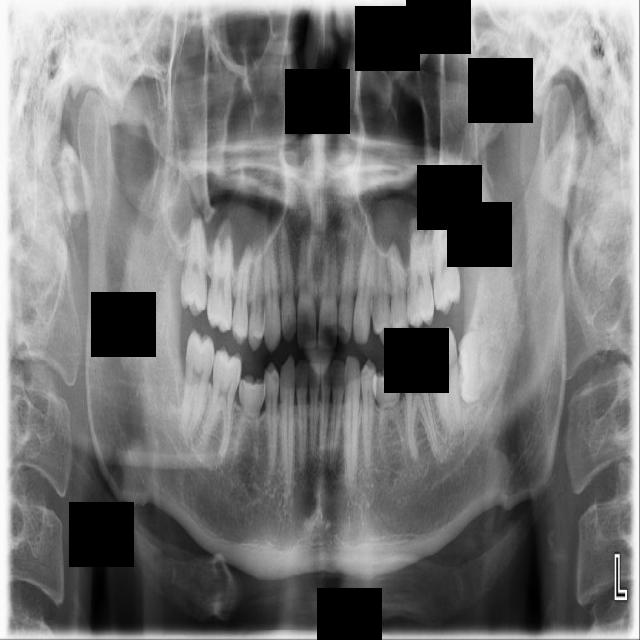BioHorizons Implant: (433, 205, 463, 315)
BioLife Implant: (452, 173, 473, 251)
Biomet 3i Implant: (454, 327, 506, 404)
Blue Sky Bio Implant: (424, 326, 464, 437)
Caries: (179, 215, 208, 319)
Implant: (180, 329, 216, 437)
